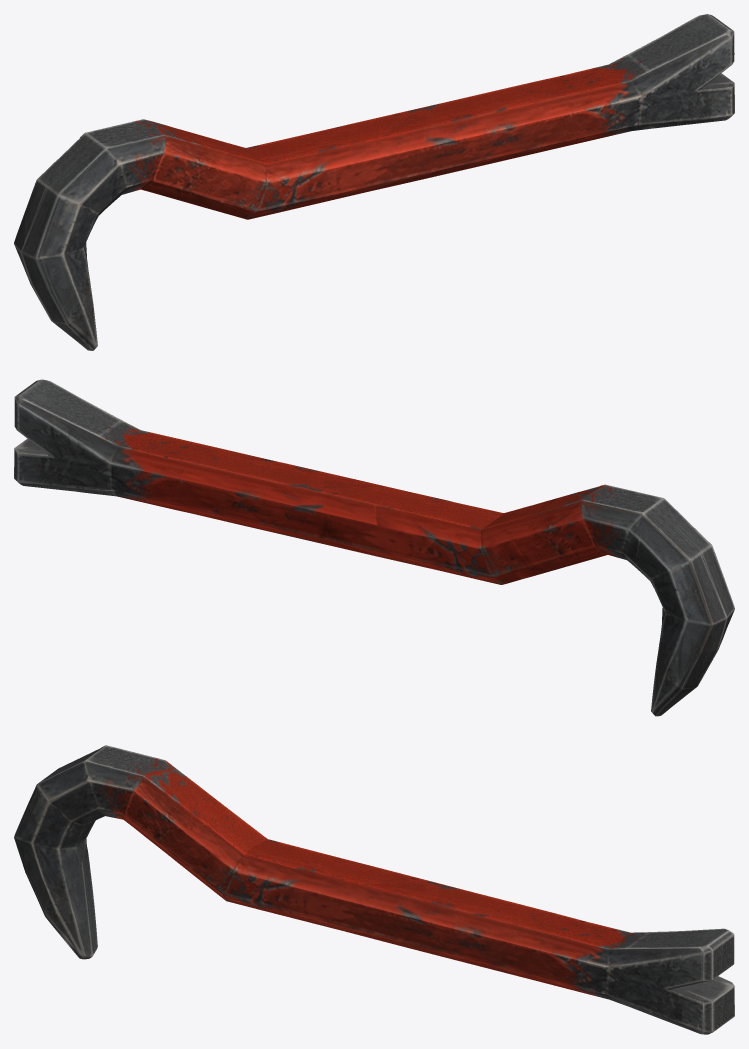
Rendered from crowbar_scrap.glb.
3 views of the same model, one above another, from view 1: azimuth 30°, elevation 25°; view 2: azimuth 150°, elevation 25°; view 3: azimuth 330°, elevation 25° (orthographic).
Visible parts, largest first — view 1: Mesh_0; view 2: Mesh_0; view 3: Mesh_0.
Part boxes in pixels (x1,y1,x2,y2): Mesh_0: (14, 14, 734, 350); Mesh_0: (14, 379, 734, 716); Mesh_0: (14, 745, 734, 1034).
Size of what is drawn, in the model's own units: 0.38 by 0.1075 by 0.0311.
Materials: 1 (1 with a texture image).
